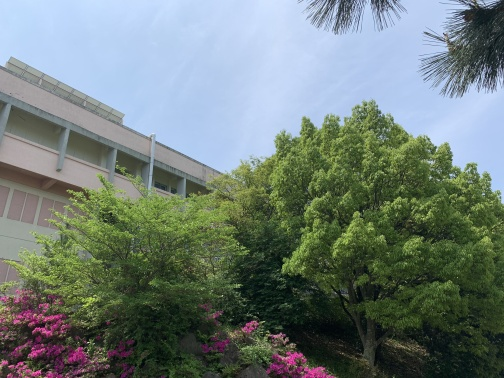College Of Education: (2, 58, 255, 299)
